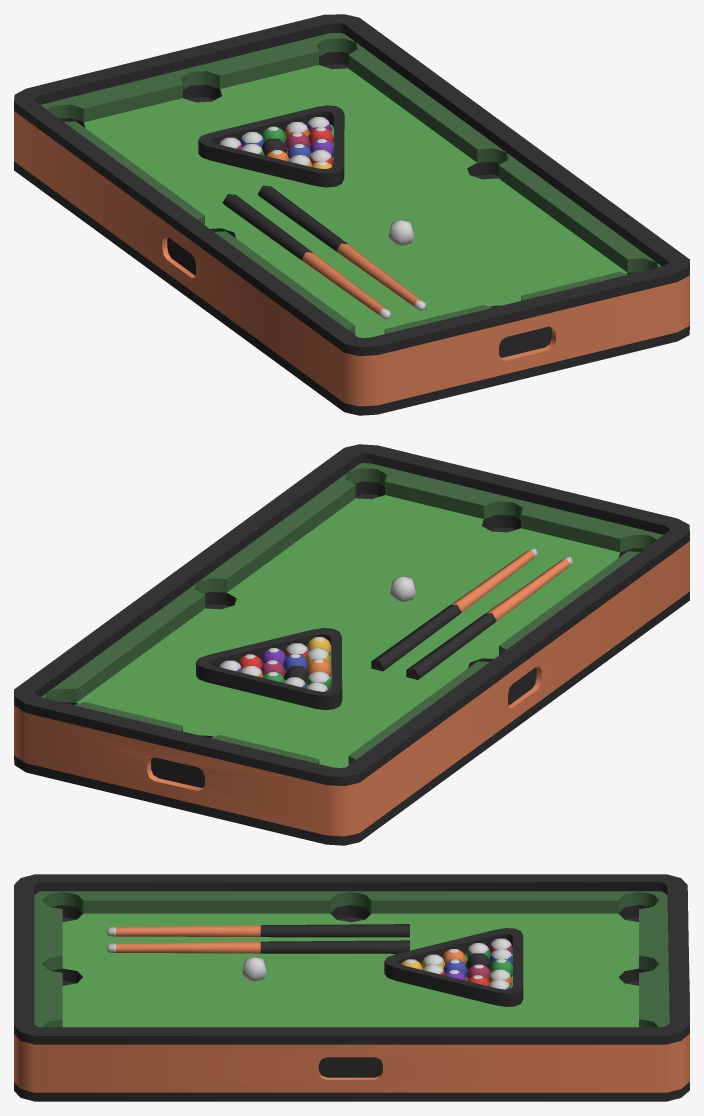
The model's file is PoolTable_01.fbx.
3 views of the same model, one above another, from view 1: azimuth 30°, elevation 25°; view 2: azimuth 150°, elevation 25°; view 3: azimuth 270°, elevation 25° (orthographic). The views are drawn at different scales.
Parts seen in each view (by area): view 1: PoolTable_01, PoolTable_TriangleRack, PoolTable_Cue_02, PoolTable_Cue_01; view 2: PoolTable_01, PoolTable_TriangleRack, PoolTable_Cue_02, PoolTable_Cue_01; view 3: PoolTable_01, PoolTable_TriangleRack, PoolTable_Cue_01, PoolTable_Cue_02, PoolTable_CueBall_01.
Part boxes in pixels (<box>): PoolTable_01: <box>14,14,689,415</box>; PoolTable_TriangleRack: <box>198,105,344,187</box>; PoolTable_Cue_02: <box>257,185,425,310</box>; PoolTable_Cue_01: <box>222,194,390,319</box>; PoolTable_01: <box>14,444,689,845</box>; PoolTable_TriangleRack: <box>196,628,342,710</box>; PoolTable_Cue_02: <box>371,548,538,671</box>; PoolTable_Cue_01: <box>406,557,573,679</box>; PoolTable_01: <box>14,874,689,1101</box>; PoolTable_TriangleRack: <box>384,928,523,1006</box>; PoolTable_Cue_01: <box>106,924,409,937</box>; PoolTable_Cue_02: <box>106,940,409,953</box>; PoolTable_CueBall_01: <box>242,957,266,981</box>.
Size of the model in its own units: 0.6984 by 0.1322 by 1.24.
